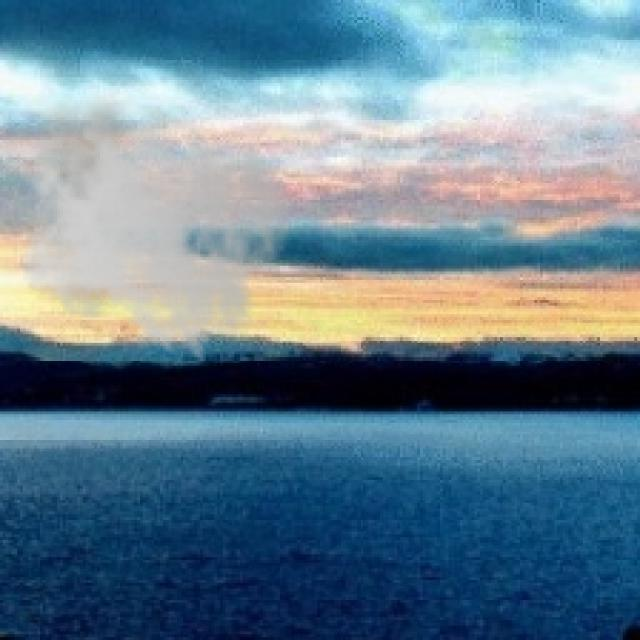Smoke: (12, 88, 292, 360)
